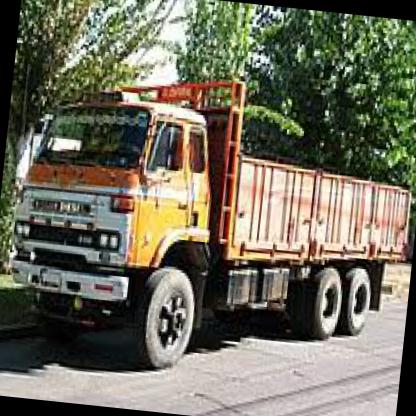truck: (1, 84, 231, 379)
